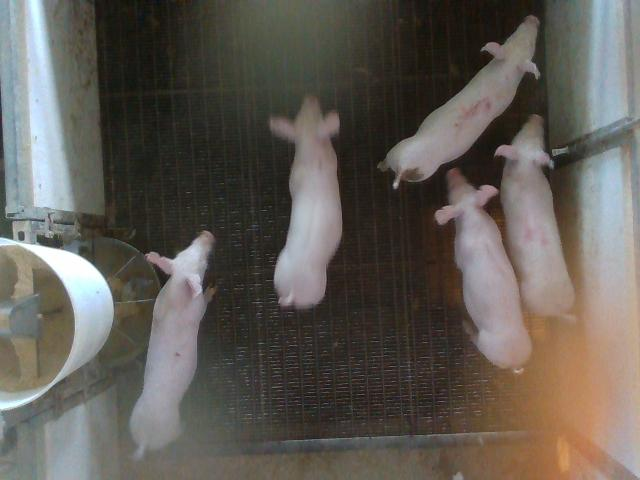pig-4: (495, 115, 575, 319)
pig-5: (378, 18, 540, 188)
